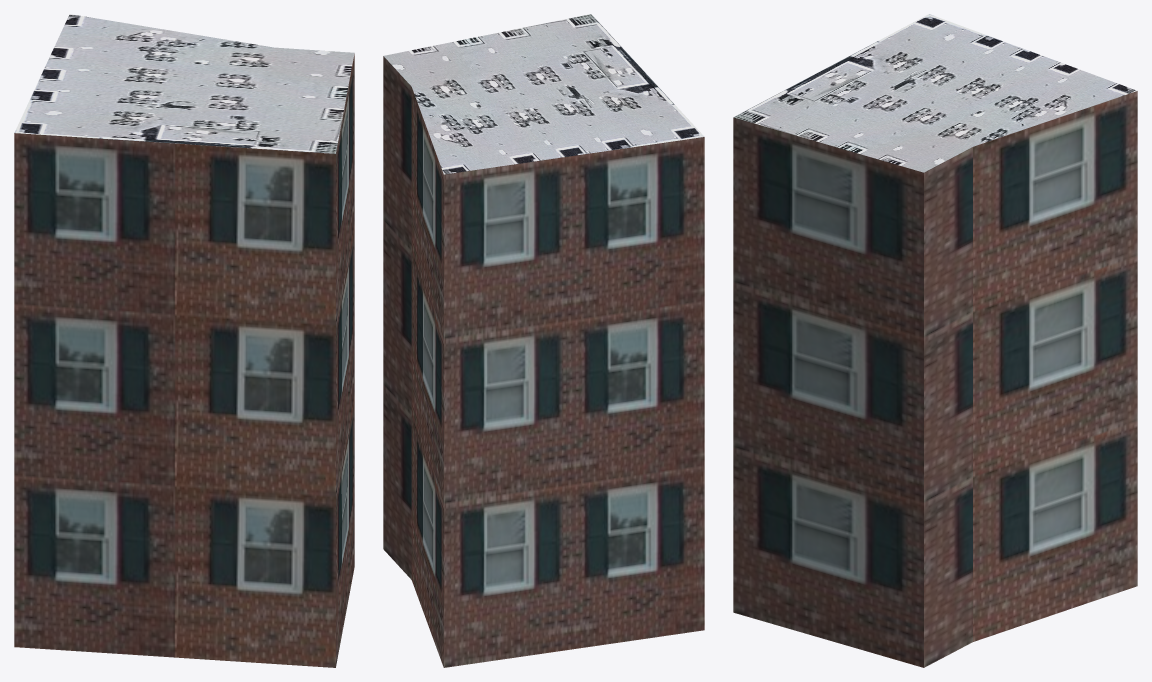
The model's file is ResTex__4275.fbx.
3 renders of one model, left to right at view 1: azimuth 30°, elevation 25°; view 2: azimuth 150°, elevation 25°; view 3: azimuth 270°, elevation 25°, orthographic. The views are drawn at different scales.
Parts seen in each view (by area): view 1: CityEngineMaterial_14_m, CityEngineMaterial_8_m; view 2: CityEngineMaterial_14_m, CityEngineMaterial_8_m; view 3: CityEngineMaterial_14_m, CityEngineMaterial_8_m.
Part boxes in pixels (bbox=[...]): CityEngineMaterial_14_m: bbox=[14, 54, 354, 667]; CityEngineMaterial_8_m: bbox=[14, 14, 354, 153]; CityEngineMaterial_14_m: bbox=[383, 56, 704, 667]; CityEngineMaterial_8_m: bbox=[384, 14, 704, 174]; CityEngineMaterial_14_m: bbox=[733, 91, 1137, 667]; CityEngineMaterial_8_m: bbox=[733, 14, 1137, 172].
Size of the model in its own units: 6.18 by 9 by 6.66.
Materials: 2 (2 with a texture image).
